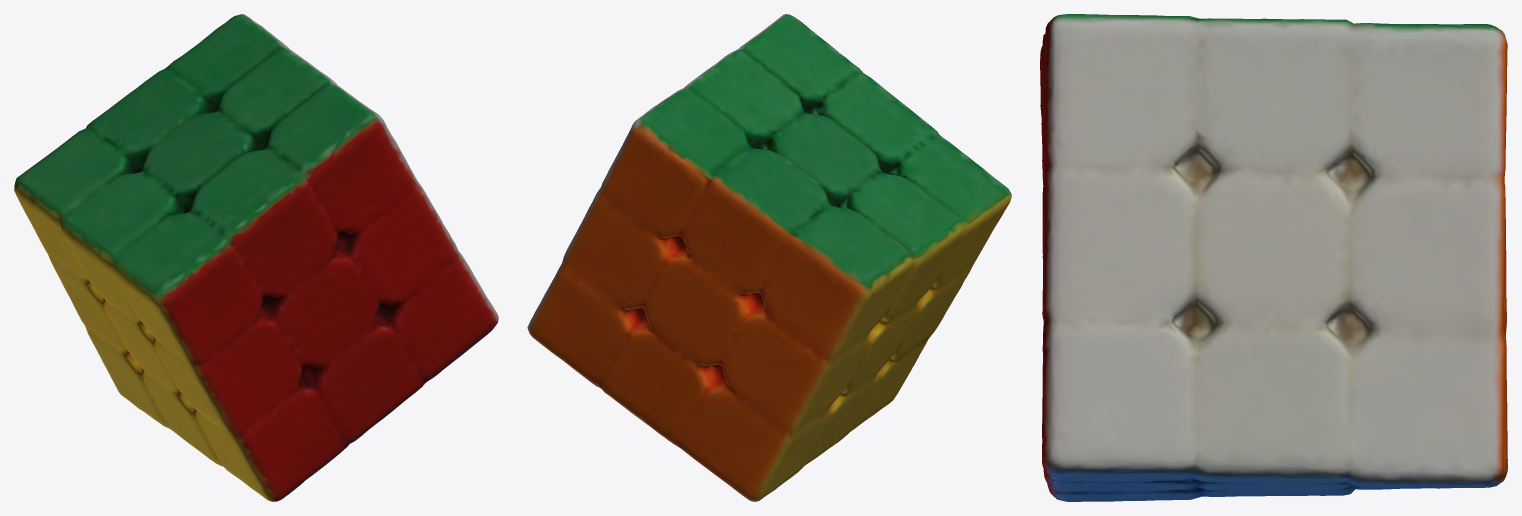
3 views of the same model, side by side, from view 1: azimuth 30°, elevation 25°; view 2: azimuth 150°, elevation 25°; view 3: azimuth 270°, elevation 25° (orthographic). The views are drawn at different scales.
Bounding box in the file's own units: 0.0757 × 0.0761 × 0.0579.
